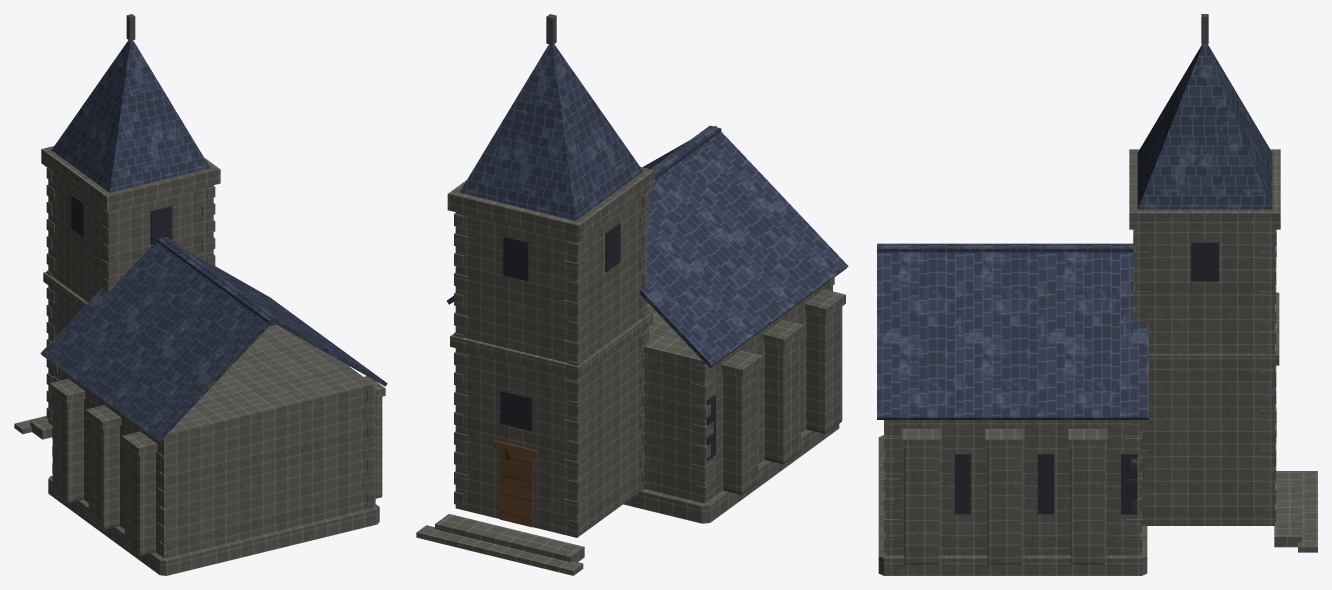
File: chapel.gltf
The picture shows the model from 3 angles, left to right: view 1: azimuth 30°, elevation 25°; view 2: azimuth 150°, elevation 25°; view 3: azimuth 270°, elevation 25°; orthographic projection. The views are drawn at different scales.
Parts seen in each view (by area): view 1: Chapel; view 2: Chapel; view 3: Chapel.
Boxes of the visible parts, x1,y1,x2,y2 form: Chapel: (14,14,387,575); Chapel: (416,14,848,575); Chapel: (877,14,1317,575).
Bounding box in the file's own units: 4 × 6.68 × 5.35.
Materials: 8 (6 with a texture image).
